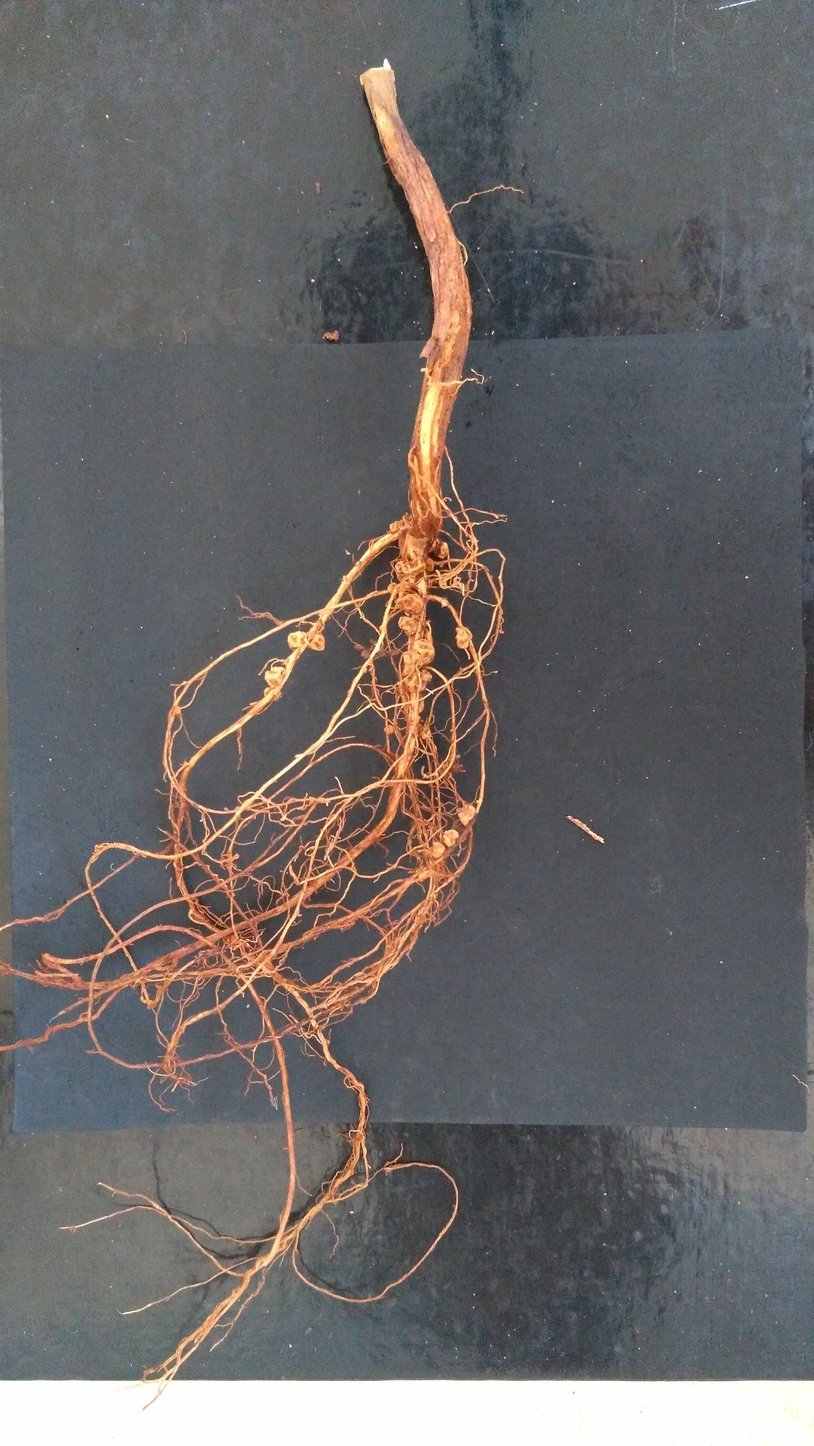nodule: (402, 533, 426, 571), (403, 670, 432, 691), (402, 650, 424, 677), (413, 639, 434, 666), (396, 593, 424, 613), (360, 640, 386, 661), (398, 616, 419, 636), (399, 581, 423, 598), (265, 666, 285, 686), (456, 804, 475, 825), (287, 631, 306, 651), (306, 631, 325, 651), (455, 626, 472, 648), (396, 560, 411, 582), (443, 829, 459, 847), (446, 756, 463, 772), (264, 686, 282, 700), (415, 867, 431, 882), (430, 842, 445, 858), (434, 542, 449, 558), (402, 513, 415, 528), (418, 726, 430, 739), (390, 520, 404, 531), (428, 538, 439, 552), (418, 693, 424, 714), (425, 558, 434, 572), (388, 583, 398, 594), (384, 725, 394, 733), (442, 598, 448, 607), (379, 626, 388, 631)
